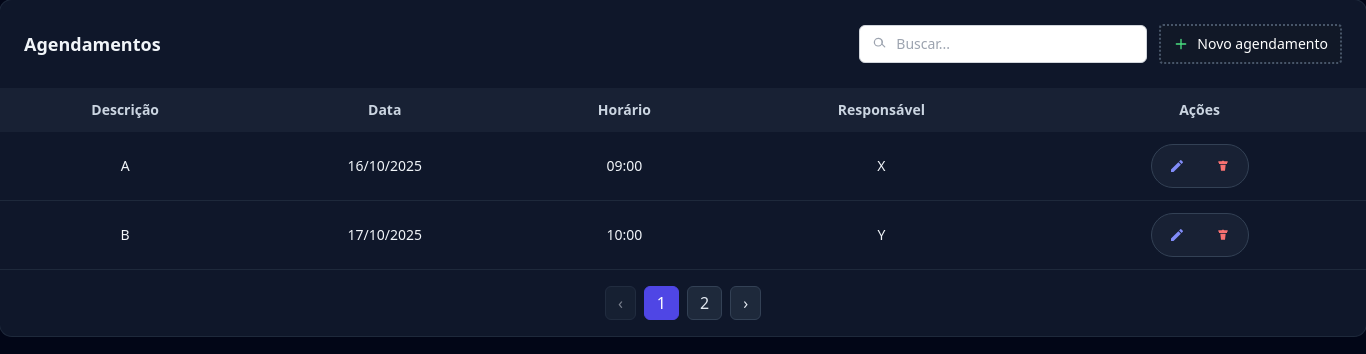
Scenario: ScheduleTable › paginates between pages
Expected: the text "A" is shown, [0,132,250,200]
Ir para página 2
Click the button "2" at point(705, 303), box [687,286,722,320]
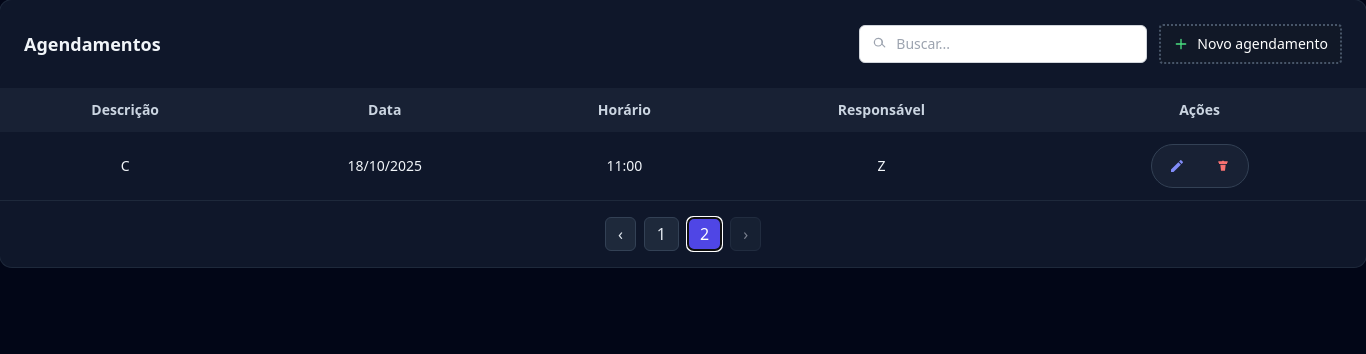
Expected: the text "C" is shown, [0,132,250,200]
